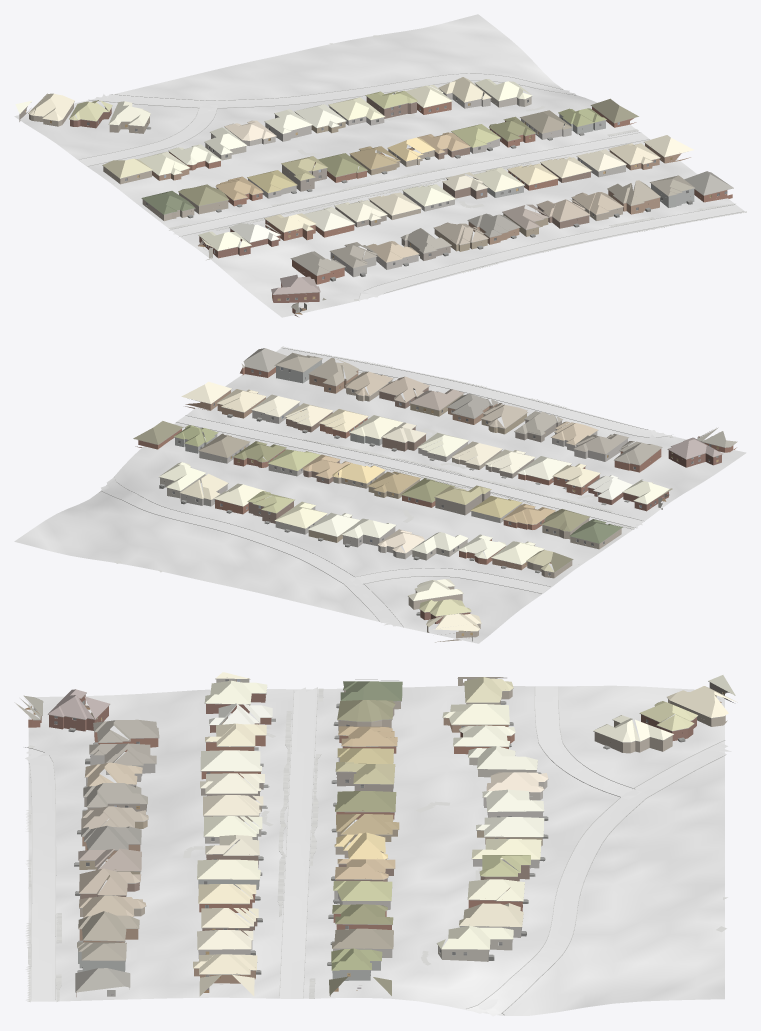
3 renders of one model, top to bottom at view 1: azimuth 30°, elevation 25°; view 2: azimuth 150°, elevation 25°; view 3: azimuth 270°, elevation 25°, orthographic. The views are drawn at different scales.
Visible parts, largest first — view 1: ground, roof, concrete, wall, detail, curb, wall_stone, wall_stucco, walk, glass; view 2: ground, roof, concrete, wall, detail, curb, wall_stone, wall_stucco, walk, glass; view 3: ground, roof, concrete, wall, detail, walk, wall_stucco, curb, wall_stone.
Part boxes in pixels (<box>): ground: <box>14,14,744,317</box>; roof: <box>15,77,733,311</box>; concrete: <box>79,73,743,299</box>; wall: <box>19,97,732,316</box>; detail: <box>20,83,733,308</box>; curb: <box>79,73,743,301</box>; wall_stone: <box>248,90,625,277</box>; wall_stucco: <box>142,84,694,260</box>; walk: <box>168,35,746,300</box>; glass: <box>87,93,726,300</box>; ground: <box>14,347,746,643</box>; roof: <box>133,348,737,631</box>; concrete: <box>101,348,666,626</box>; wall: <box>135,367,736,642</box>; detail: <box>143,359,734,638</box>; curb: <box>99,347,672,627</box>; wall_stone: <box>180,403,627,547</box>; wall_stucco: <box>160,360,662,560</box>; walk: <box>114,346,673,572</box>; glass: <box>172,369,718,575</box>; ground: <box>28,685,724,1015</box>; roof: <box>14,672,737,996</box>; concrete: <box>25,686,731,1016</box>; wall: <box>28,677,733,996</box>; detail: <box>33,677,729,994</box>; walk: <box>25,688,727,1002</box>; wall_stucco: <box>78,677,547,980</box>; curb: <box>25,686,725,1015</box>; wall_stone: <box>86,754,542,958</box>.
Size of the model in its own units: 261 by 22.34 by 263.
